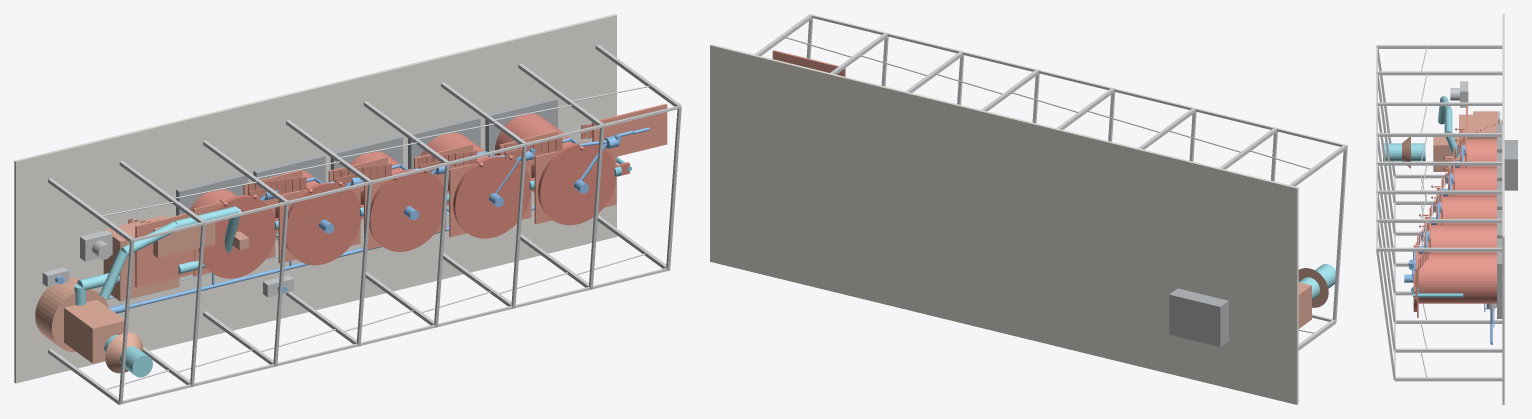
Rendered from adsorption_circuit_concept_v5.glb.
The picture shows the model from 3 angles, left to right: view 1: azimuth 30°, elevation 25°; view 2: azimuth 150°, elevation 25°; view 3: azimuth 270°, elevation 25°; orthographic projection. The views are drawn at different scales.
Parts seen in each view (by area): view 1: FDN_MAIN_SLAB, COL_140_CC_003_CHANNEL, COL_140_CC_004_CHANNEL, COL_140_CC_002_CHANNEL, COL_140_CC_001_CHANNEL, COL_140_CC_005_CHANNEL, AUX_CH_140_CH_001_BASE, PLAT_L5_RIGHT_FEED, PLAT_L1_LEFT_SERVICE, AUX_WT_140_WT_001, AUX_BX_LEFT, FDN_140_CC_001 (+30 smaller); view 2: FDN_MAIN_SLAB, FDN_LEFT_PIT, STR_FRAME_AXIS_01_ROOF, PLAT_L5_RIGHT_FEED, AUX_CH_140_CH_001_BASE; view 3: COL_140_CC_001_SHELL, COL_140_CC_002_SHELL, COL_140_CC_003_SHELL, FDN_MAIN_SLAB, COL_140_CC_004_SHELL, COL_140_CC_005_SHELL, FDN_LEFT_PIT, STR_FRAME_AXIS_08_N_COL, STR_FRAME_AXIS_05_N_COL, STR_FRAME_AXIS_06_N_COL, STR_FRAME_AXIS_02_N_COL, AUX_BX_LEFT (+31 smaller).
Part boxes in pixels (x1=…): FDN_MAIN_SLAB: x1=14, y1=14, x2=616, y2=383; COL_140_CC_003_CHANNEL: x1=369, y1=168, x2=443, y2=251; COL_140_CC_004_CHANNEL: x1=286, y1=182, x2=361, y2=265; COL_140_CC_002_CHANNEL: x1=453, y1=155, x2=531, y2=238; COL_140_CC_001_CHANNEL: x1=538, y1=142, x2=616, y2=225; COL_140_CC_005_CHANNEL: x1=198, y1=195, x2=276, y2=278; AUX_CH_140_CH_001_BASE: x1=64, y1=299, x2=124, y2=363; PLAT_L5_RIGHT_FEED: x1=592, y1=104, x2=667, y2=157; PLAT_L1_LEFT_SERVICE: x1=135, y1=212, x2=193, y2=287; AUX_WT_140_WT_001: x1=35, y1=278, x2=108, y2=351; AUX_BX_LEFT: x1=103, y1=215, x2=179, y2=301; FDN_140_CC_001: x1=485, y1=97, x2=557, y2=155; FDN_MAIN_SLAB: x1=710, y1=44, x2=1298, y2=404; FDN_LEFT_PIT: x1=1169, y1=288, x2=1228, y2=346; STR_FRAME_AXIS_01_ROOF: x1=1332, y1=149, x2=1347, y2=322; PLAT_L5_RIGHT_FEED: x1=772, y1=50, x2=845, y2=76; AUX_CH_140_CH_001_BASE: x1=1298, y1=282, x2=1311, y2=328; COL_140_CC_001_SHELL: x1=1419, y1=253, x2=1495, y2=303; COL_140_CC_002_SHELL: x1=1431, y1=225, x2=1495, y2=253; COL_140_CC_003_SHELL: x1=1443, y1=196, x2=1495, y2=224; FDN_MAIN_SLAB: x1=1502, y1=14, x2=1504, y2=404; COL_140_CC_004_SHELL: x1=1455, y1=167, x2=1495, y2=196; COL_140_CC_005_SHELL: x1=1464, y1=139, x2=1495, y2=167; FDN_LEFT_PIT: x1=1504, y1=140, x2=1517, y2=190; STR_FRAME_AXIS_08_N_COL: x1=1377, y1=247, x2=1502, y2=251; STR_FRAME_AXIS_05_N_COL: x1=1377, y1=161, x2=1502, y2=165; STR_FRAME_AXIS_06_N_COL: x1=1377, y1=190, x2=1502, y2=194; STR_FRAME_AXIS_02_N_COL: x1=1377, y1=71, x2=1502, y2=75; AUX_BX_LEFT: x1=1473, y1=111, x2=1497, y2=138.
Bounding box in the file's own units: 50.5 × 17.8 × 13.61.
